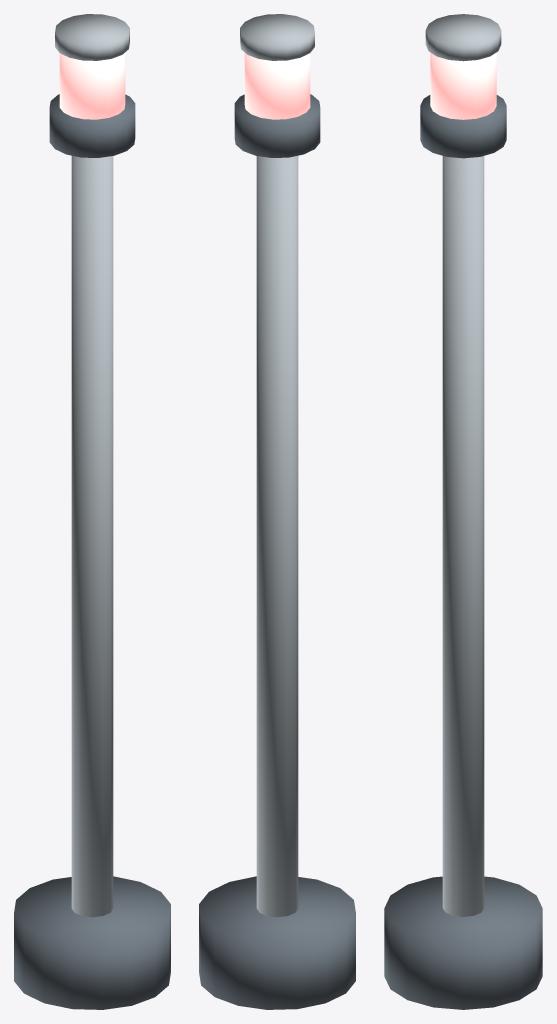
Rendered from alarm_tower_standard.glb.
3 renders of one model, left to right at view 1: azimuth 30°, elevation 25°; view 2: azimuth 150°, elevation 25°; view 3: azimuth 270°, elevation 25°, orthographic.
Visible parts, largest first — view 1: Pole_steel, Base_dark, StatusLight_alarm, Beacon_dark, Beacon_steel; view 2: Pole_steel, Base_dark, StatusLight_alarm, Beacon_dark, Beacon_steel; view 3: Pole_steel, Base_dark, StatusLight_alarm, Beacon_dark, Beacon_steel.
Boxes of the visible parts, <box> form: Pole_steel: <box>71,155,113,917</box>; Base_dark: <box>14,876,170,1009</box>; StatusLight_alarm: <box>59,52,125,119</box>; Beacon_dark: <box>49,94,135,157</box>; Beacon_steel: <box>55,14,129,60</box>; Pole_steel: <box>256,155,298,917</box>; Base_dark: <box>199,876,355,1009</box>; StatusLight_alarm: <box>244,52,310,119</box>; Beacon_dark: <box>234,94,320,157</box>; Beacon_steel: <box>240,14,314,60</box>; Pole_steel: <box>442,156,484,916</box>; Base_dark: <box>384,876,542,1009</box>; StatusLight_alarm: <box>430,52,496,119</box>; Beacon_dark: <box>420,95,506,158</box>; Beacon_steel: <box>425,14,501,61</box>.
Size of the model in its own units: 0.42 by 2.77 by 0.42.
